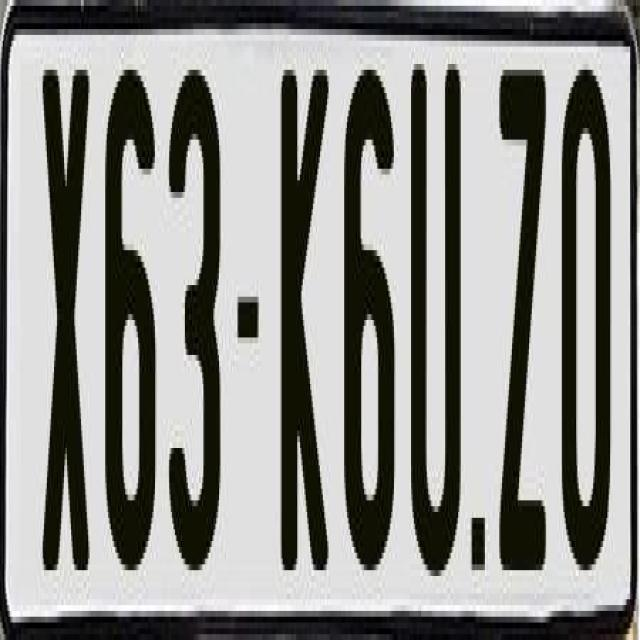0: (560, 58, 608, 570)
3: (168, 70, 225, 606)
6: (105, 58, 163, 558), (343, 64, 394, 570)
K: (279, 64, 330, 582)
U: (408, 64, 466, 600)
X: (43, 58, 91, 594)
Z: (499, 70, 549, 576)
